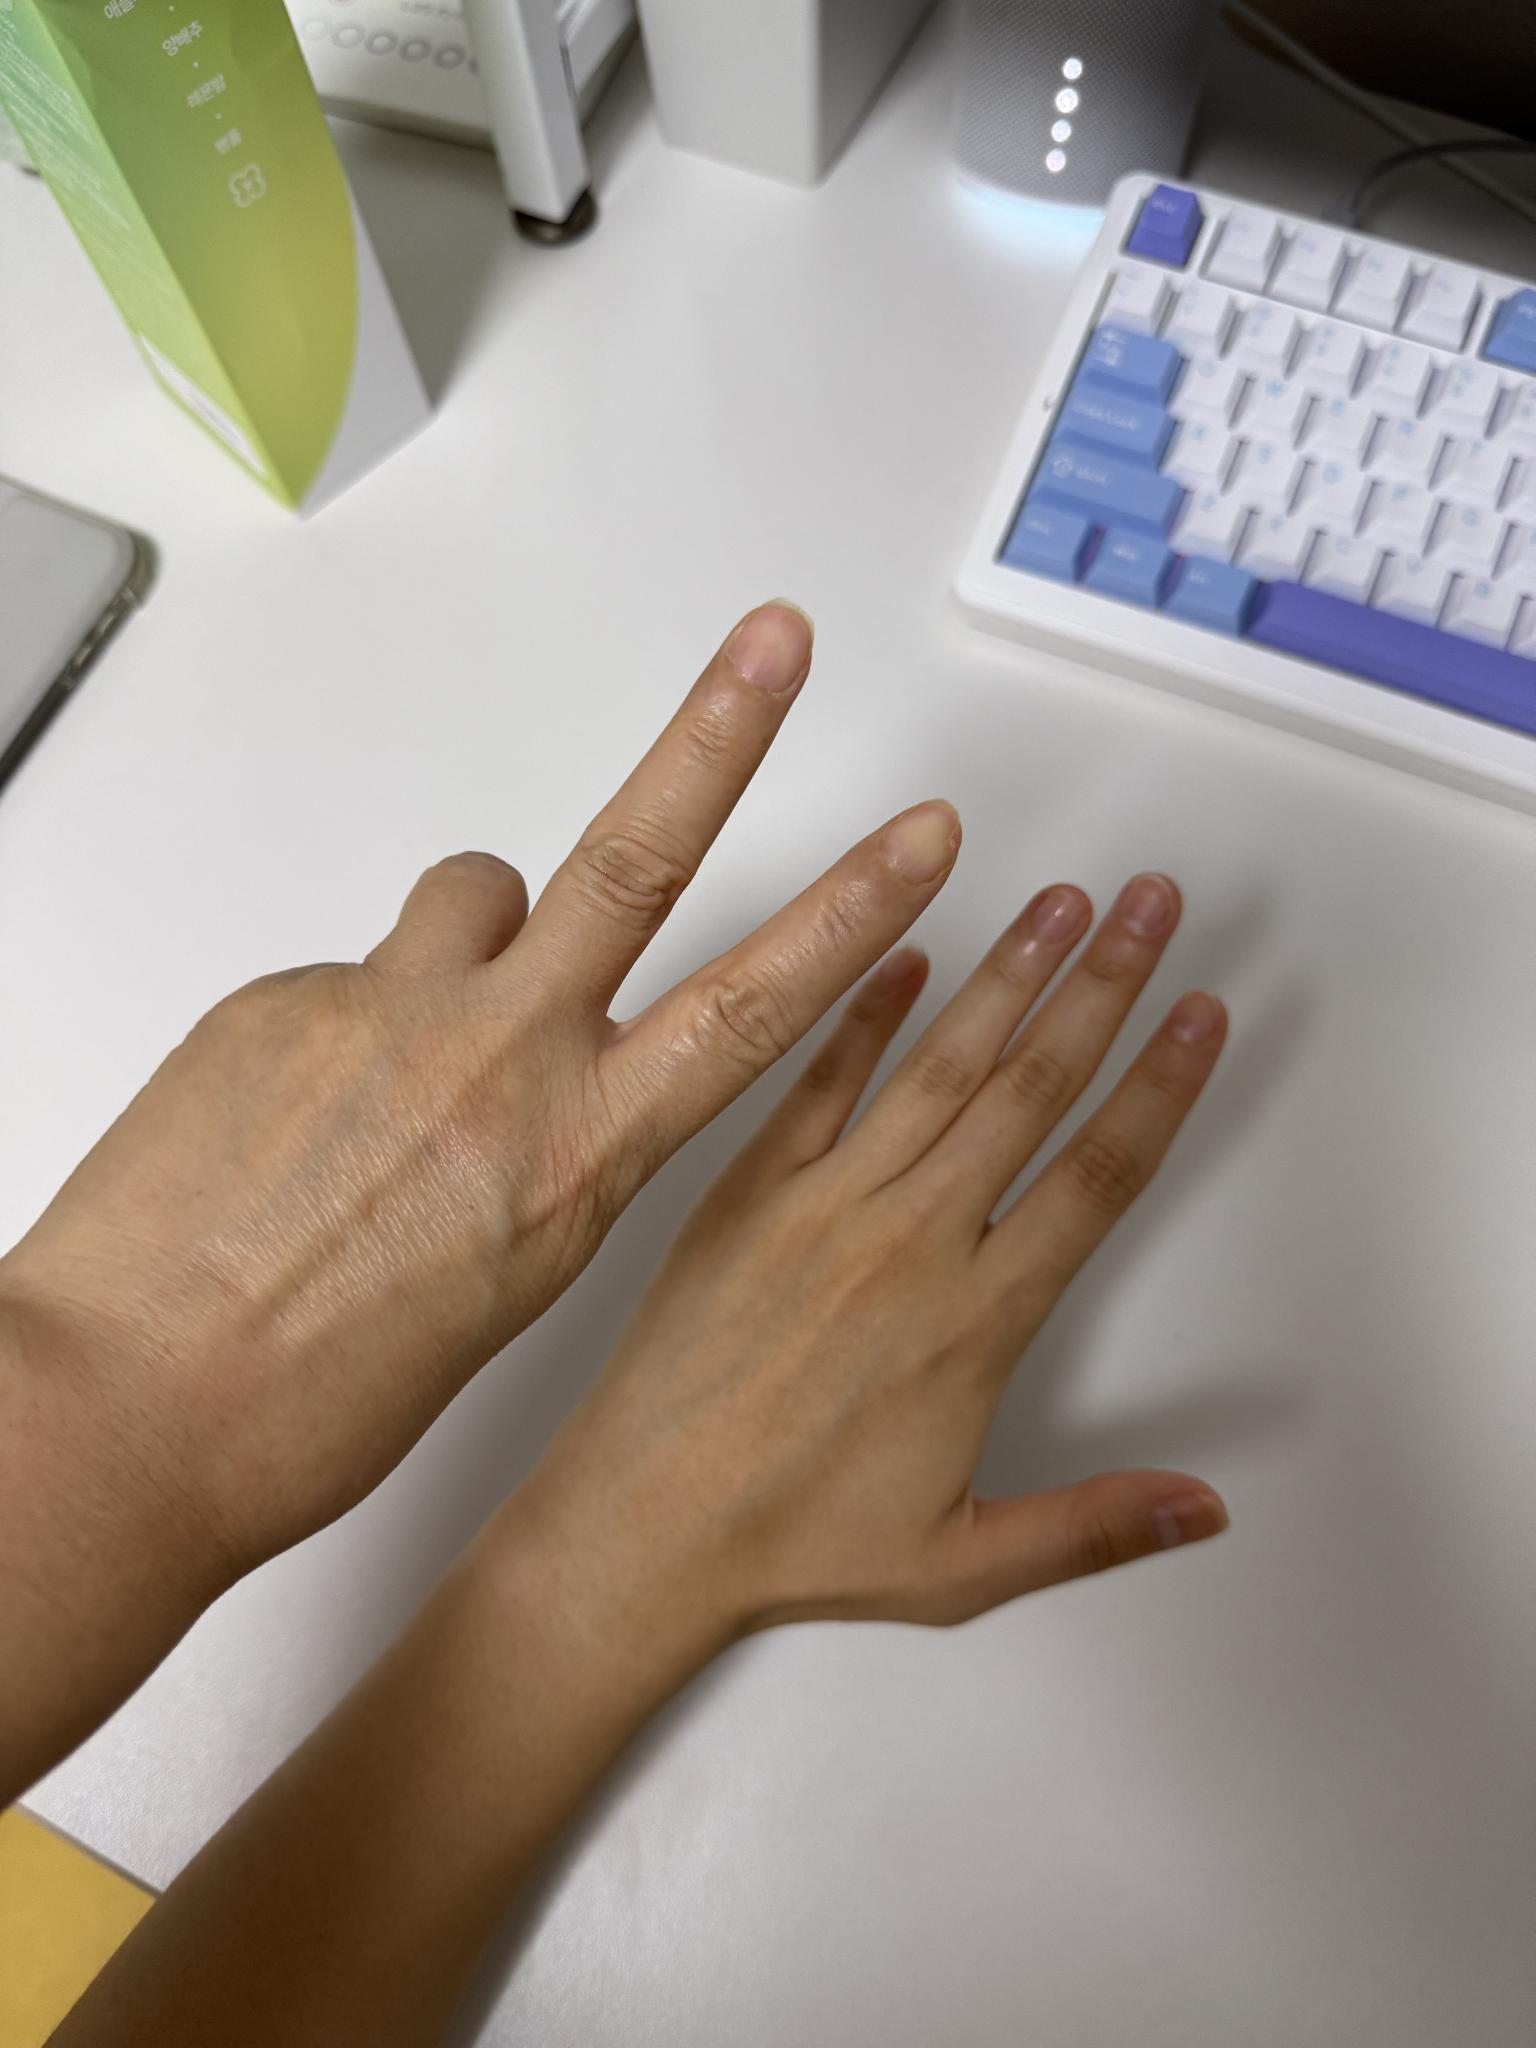v: (6, 582, 976, 1640)
